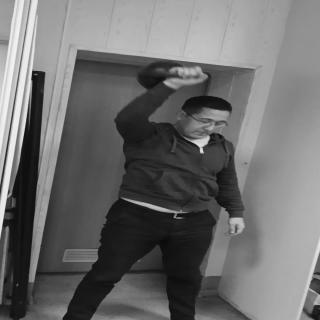girya: (139, 60, 200, 93)
